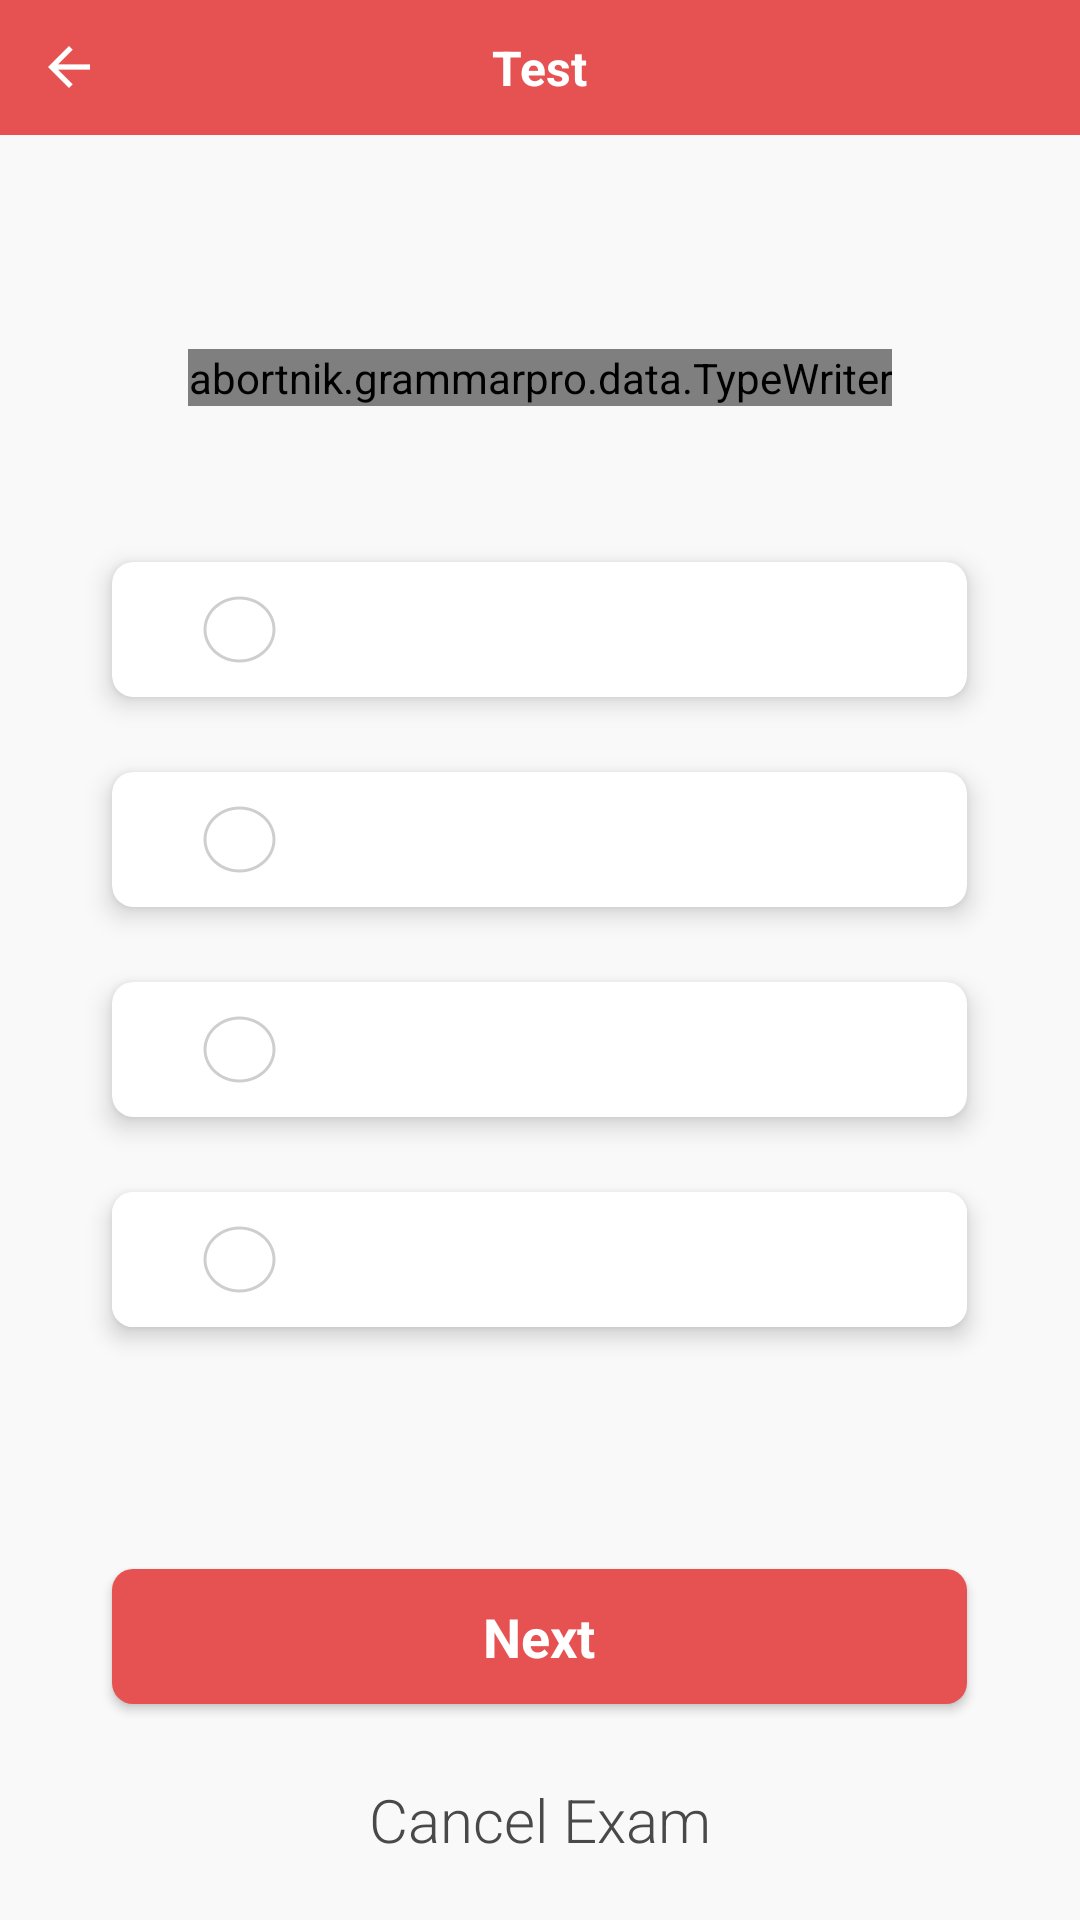

Screen size 1080*1920. Icon name, then its center in pixels as [x,y]:
back arrow: [69,67]
